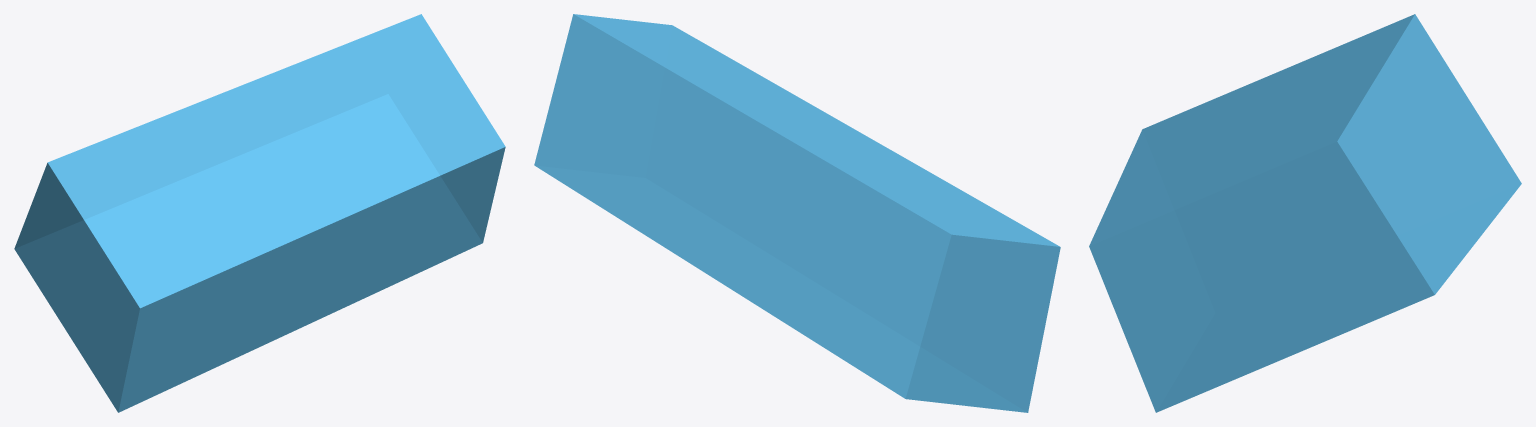
File: Event_421115418_HErechit_12.fbx
3 renders of one model, left to right at view 1: azimuth 30°, elevation 25°; view 2: azimuth 150°, elevation 25°; view 3: azimuth 270°, elevation 25°, orthographic. The views are drawn at different scales.
Visible parts, largest first — view 1: Model; view 2: Model; view 3: Model.
Part boxes in pixels (x1,y1,x2,y2): Model: (14,14,505,412); Model: (534,14,1060,412); Model: (1089,14,1521,412).
Size of the model in its own units: 1.01 by 0.7904 by 0.7392.
